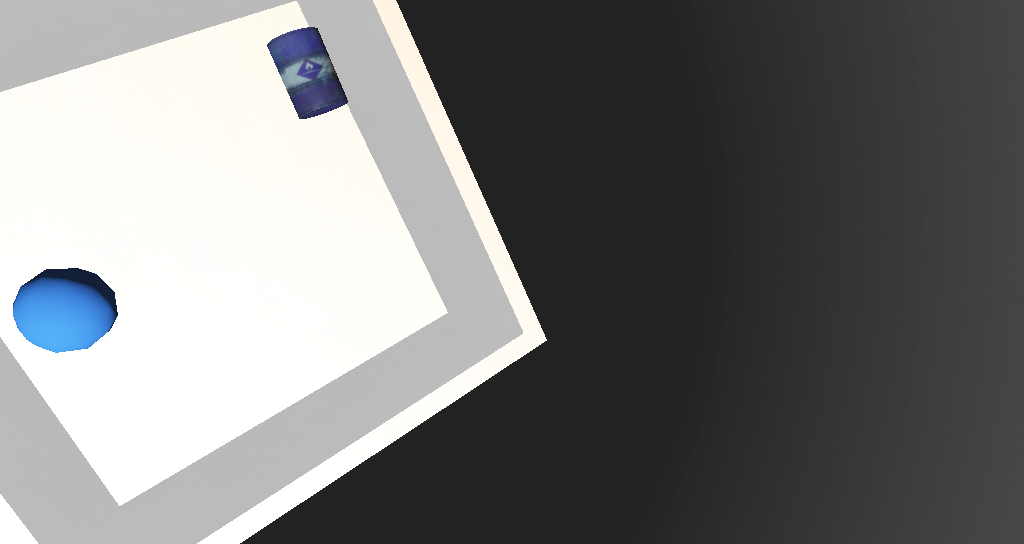cone: (610, 177, 670, 224)
sphere: (364, 251, 431, 293)
